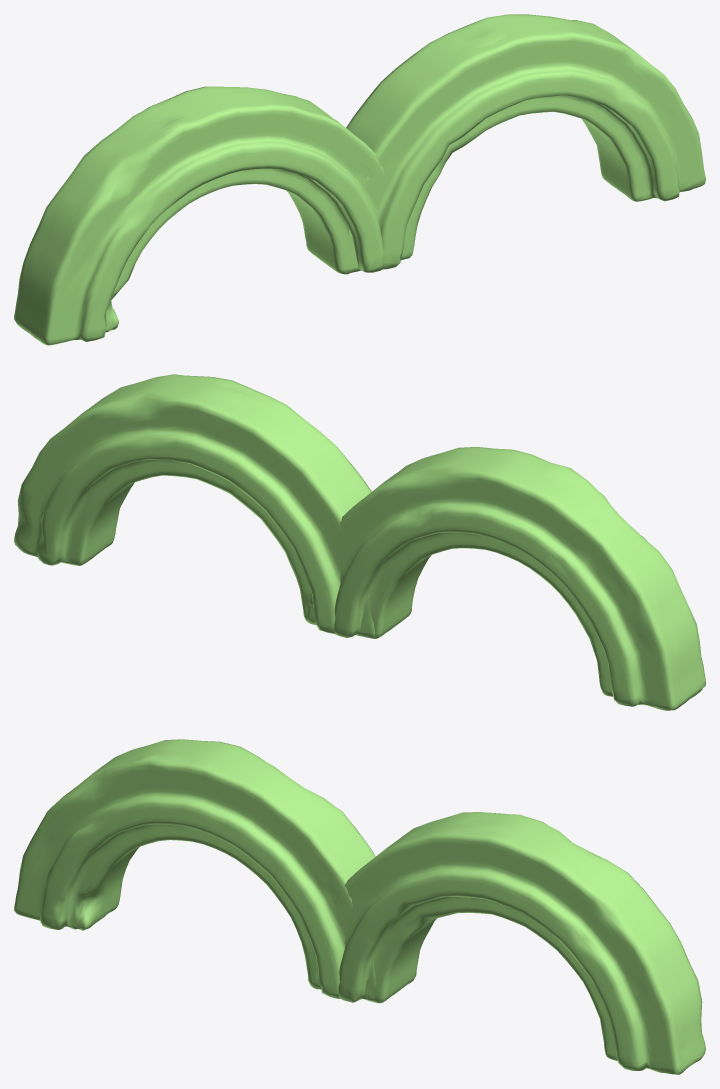
File: arch03.fbx
The picture shows the model from 3 angles, top to bottom: view 1: azimuth 30°, elevation 25°; view 2: azimuth 150°, elevation 25°; view 3: azimuth 330°, elevation 25°; orthographic projection.
Visible parts, largest first — view 1: pCylinder5; view 2: pCylinder5; view 3: pCylinder5.
Boxes of the visible parts, x1,y1,x2,y2 form: pCylinder5: (14,14,705,345); pCylinder5: (14,374,705,710); pCylinder5: (14,739,705,1074).
Size of the model in its own units: 8.97 by 2.49 by 1.13.
